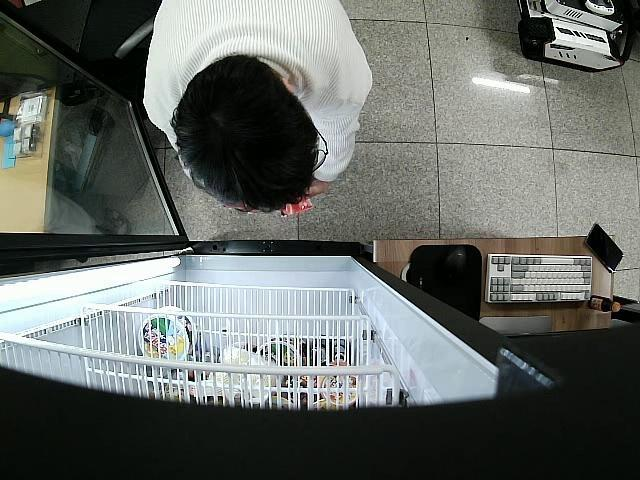02_shinRamen_S: (280, 197, 315, 218)
